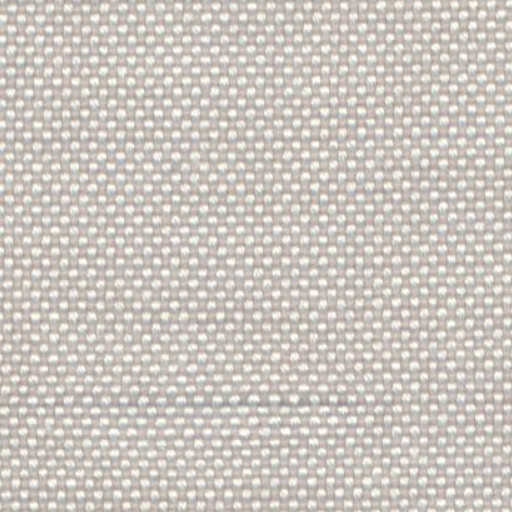WuZi: (57, 390, 340, 410)
